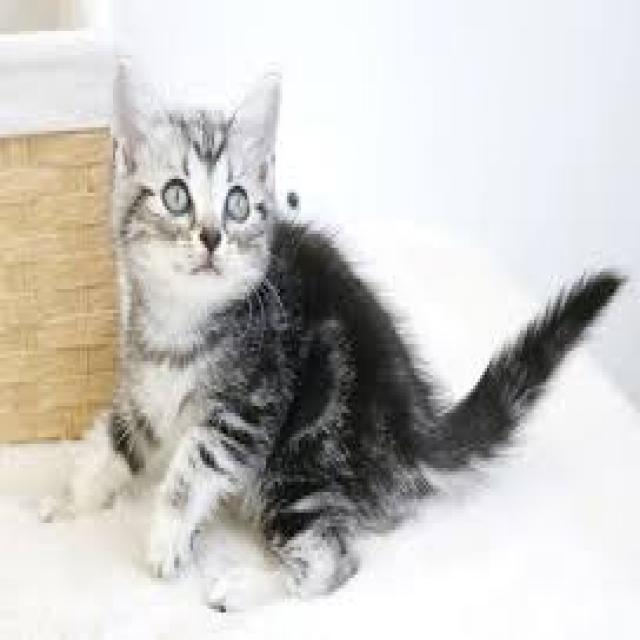cat-face: (90, 66, 347, 380)
